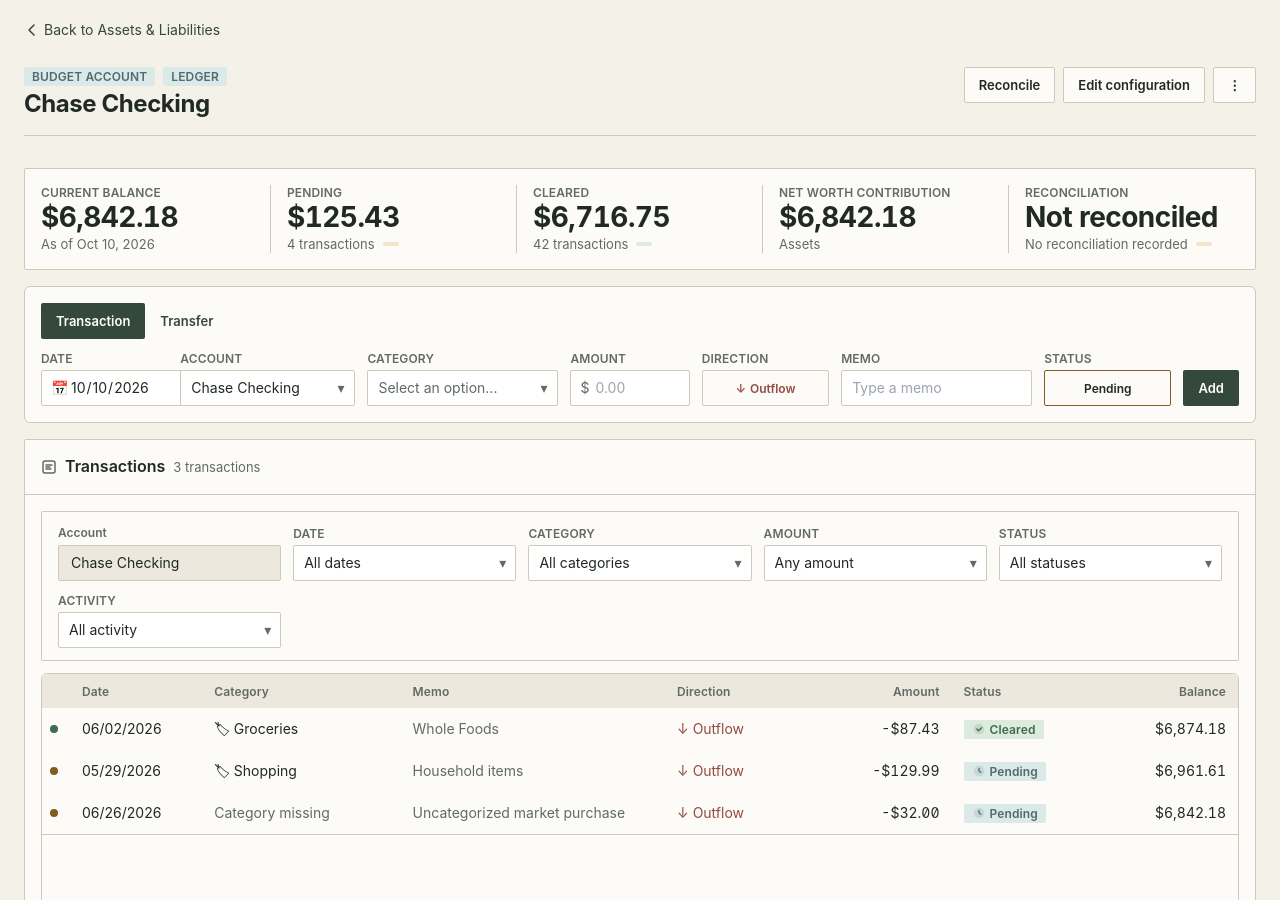
Test: AccountDetailPage › opens the account-local reconciliation balance action
Step 1. Click the button with test id "account-detail-reconcile" → (1010, 85), box [964,67,1056,103]
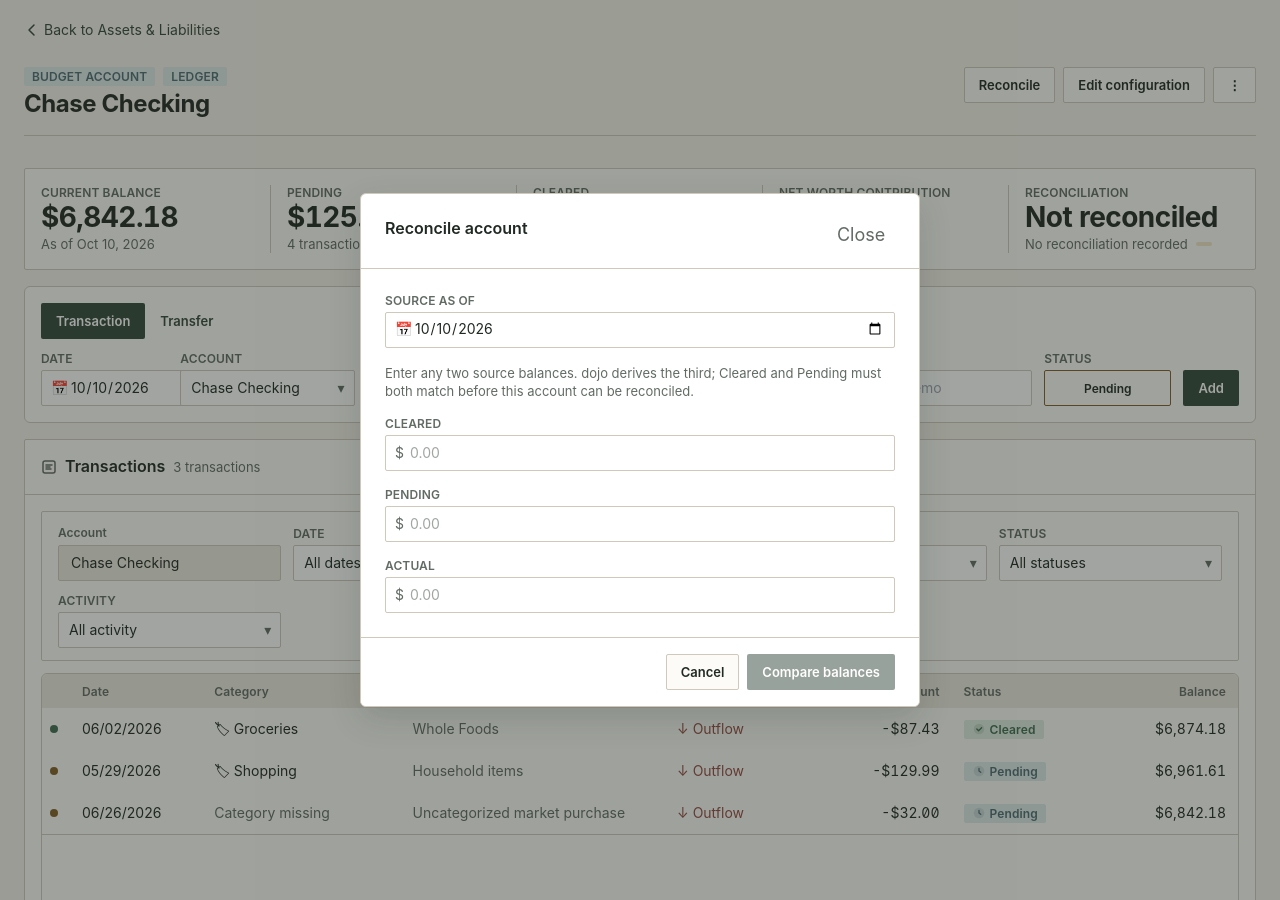
Now the dialog with test id "form-modal-root" shows "Reconcile account", box [360,193,920,707]
Now the date field named "reconciliation-cutoff" is shown, box [385,312,895,348]
Now the field named "source-cleared" is shown, box [385,435,895,471]
